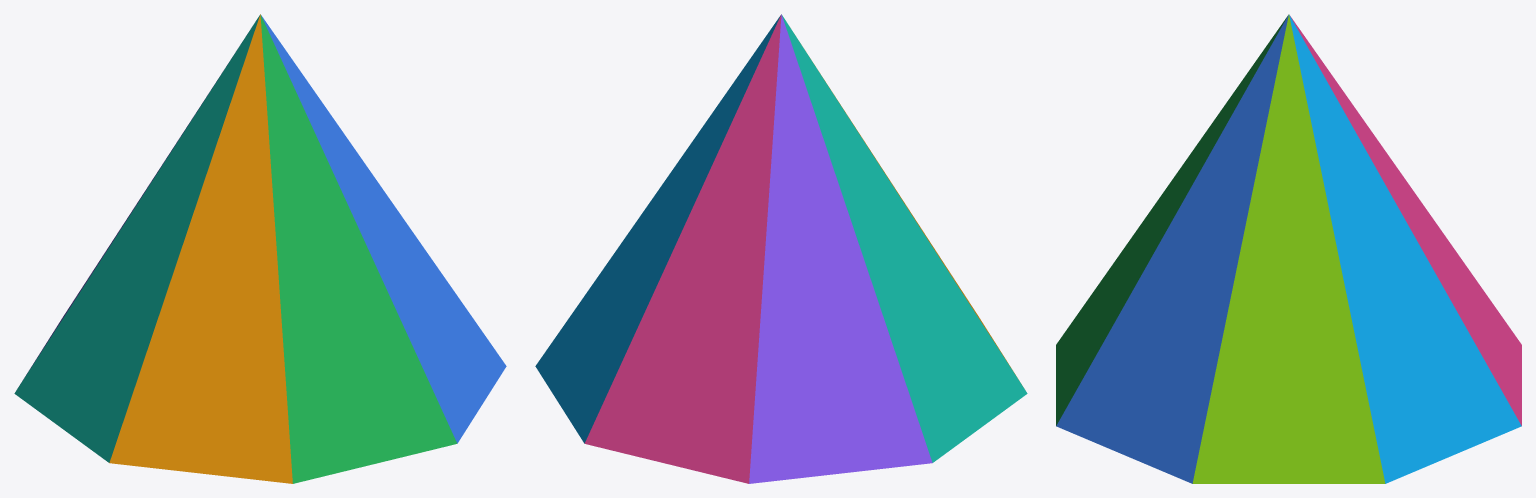
The model's file is limas-segidelapan.glb.
3 views of the same model, side by side, from view 1: azimuth 30°, elevation 25°; view 2: azimuth 150°, elevation 25°; view 3: azimuth 270°, elevation 25° (orthographic).
Visible parts, largest first — view 1: tegak3, tegak2, tegak4, tegak1; view 2: tegak5, tegak6, tegak4, tegak7; view 3: tegak8, tegak1, tegak7, tegak2, tegak6.
Part boxes in pixels (left/top/right/bottom): tegak3: left=109, top=14, right=292, bottom=483; tegak2: left=260, top=15, right=457, bottom=483; tegak4: left=14, top=15, right=259, bottom=462; tegak1: left=261, top=15, right=506, bottom=443; tegak5: left=749, top=14, right=932, bottom=483; tegak6: left=584, top=15, right=781, bottom=483; tegak4: left=782, top=15, right=1027, bottom=462; tegak7: left=535, top=15, right=780, bottom=443; tegak8: left=1192, top=15, right=1385, bottom=483; tegak1: left=1056, top=15, right=1288, bottom=483; tegak7: left=1289, top=15, right=1521, bottom=483; tegak2: left=1056, top=16, right=1287, bottom=425; tegak6: left=1290, top=16, right=1521, bottom=425.
Bounding box in the file's own units: 1.93 × 1.7 × 1.93.
